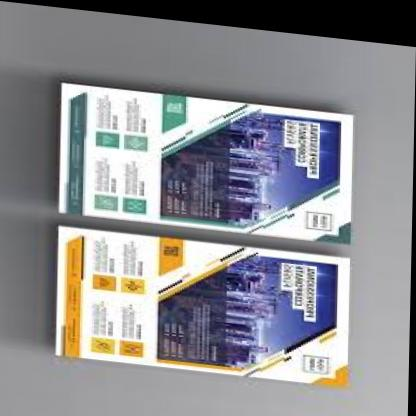Paper: (0, 32, 404, 398)
